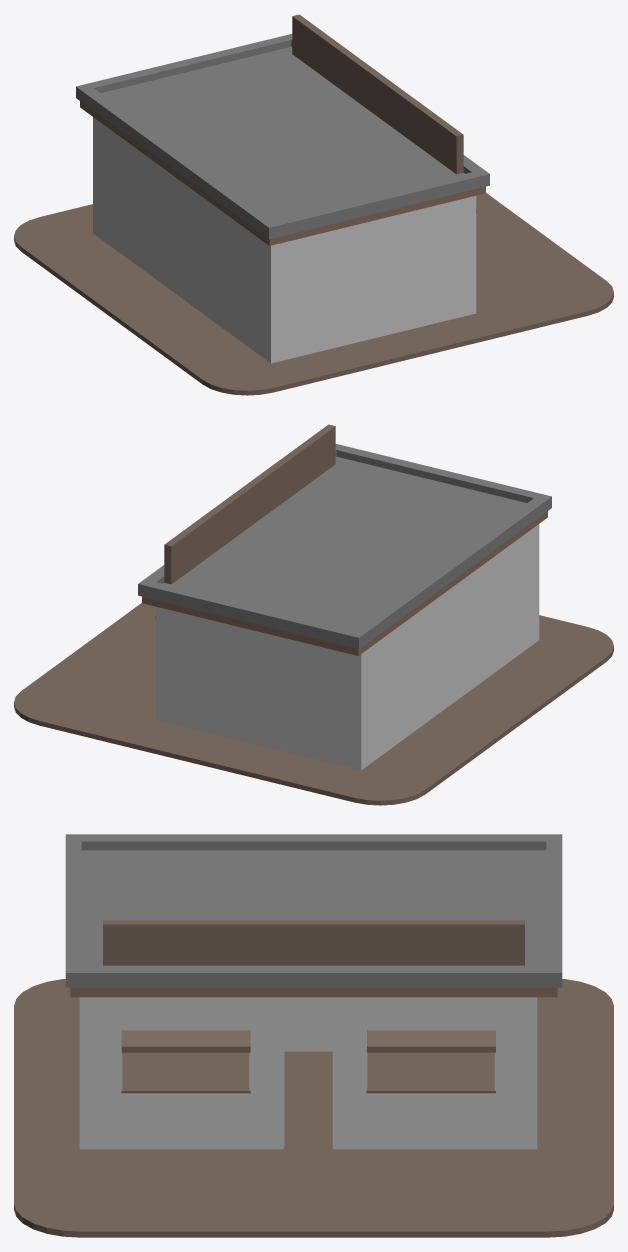
Rendered from parapapapa.fbx.
The picture shows the model from 3 angles, top to bottom: view 1: azimuth 30°, elevation 25°; view 2: azimuth 150°, elevation 25°; view 3: azimuth 270°, elevation 25°; orthographic projection. The views are drawn at different scales.
Visible parts, largest first — view 1: Cube.009; view 2: Cube.009; view 3: Cube.009.
Part boxes in pixels (x1,y1,x2,y2): Cube.009: (14, 14, 613, 395); Cube.009: (14, 424, 613, 805); Cube.009: (14, 834, 613, 1237).
Bounding box in the file's own units: 1000 × 420 × 1000.
